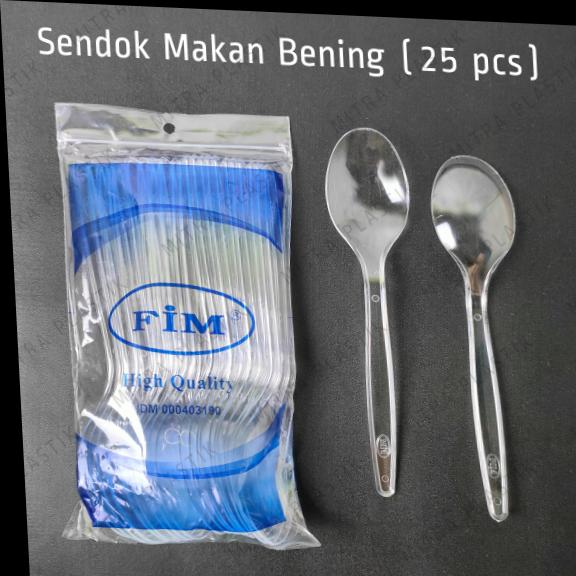Plastik: (431, 156, 515, 521), (326, 129, 409, 496)
